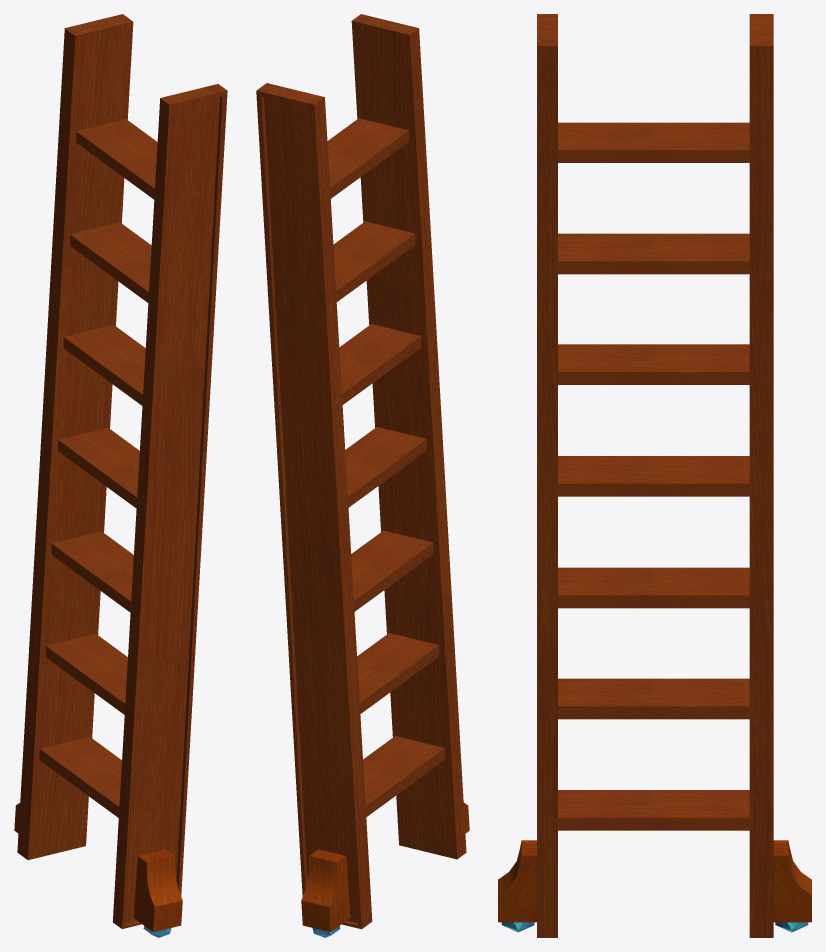
The model's file is Ladder.fbx.
3 renders of one model, left to right at view 1: azimuth 30°, elevation 25°; view 2: azimuth 150°, elevation 25°; view 3: azimuth 270°, elevation 25°, orthographic. The views are drawn at different scales.
Parts seen in each view (by area): view 1: polySurface16; view 2: polySurface16; view 3: polySurface16.
Boxes of the visible parts, x1,y1,x2,y2 form: polySurface16: [14, 14, 227, 937]; polySurface16: [256, 14, 469, 937]; polySurface16: [498, 14, 811, 937].
Bounding box in the file's own units: 1.09 × 8.11 × 2.48.
